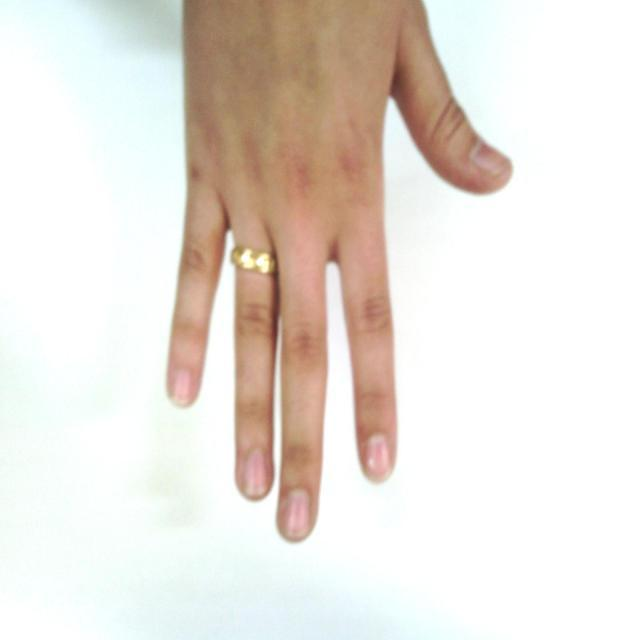Fingernail: (283, 489, 311, 540), (473, 143, 511, 178), (243, 449, 269, 499), (366, 436, 391, 482), (172, 370, 193, 407)
